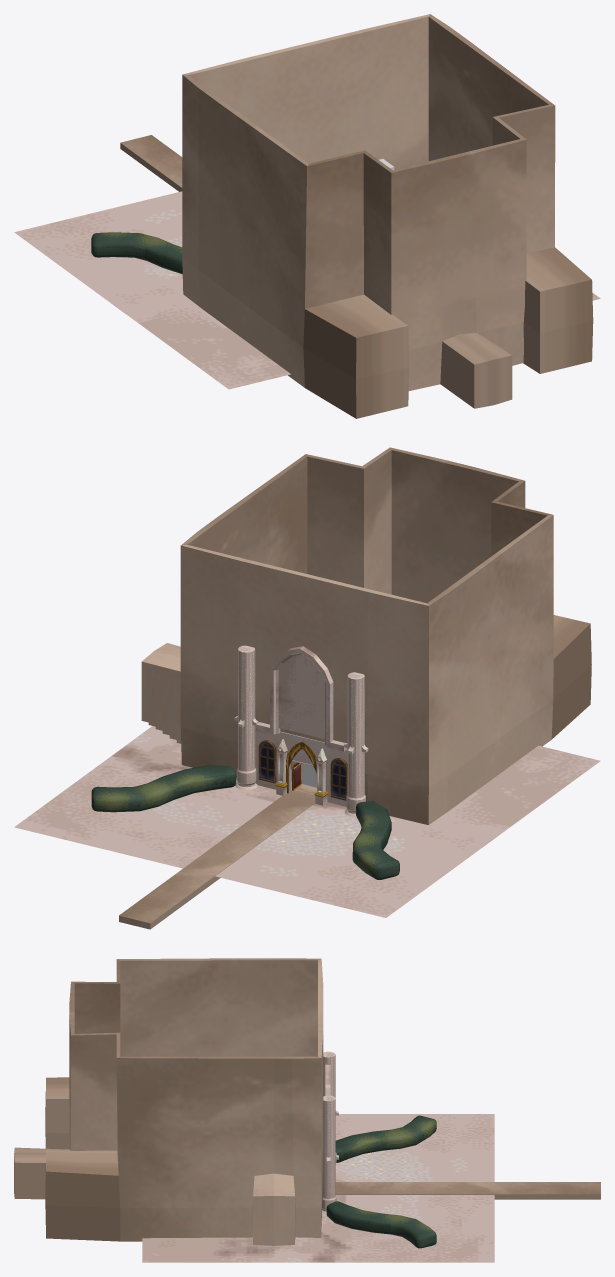
The model's file is Hotel_puertaAnimadaDoni.fbx.
3 views of the same model, one above another, from view 1: azimuth 30°, elevation 25°; view 2: azimuth 150°, elevation 25°; view 3: azimuth 270°, elevation 25° (orthographic). The views are drawn at different scales.
Parts seen in each view (by area): view 1: Plane, Plane.001, Cube.025; view 2: Plane, Plane.001, Cube.025, Cube.014, pilar.001, pilar, pared, ventana, Cube.009; view 3: Plane, Plane.001, Cube.025, pilar.001, pilar.
Part boxes in pixels (x1,y1,x2,y2): Plane: (120,14,593,418); Plane.001: (14,191,600,389); Cube.025: (91,232,182,274); Plane: (119,447,591,929); Plane.001: (14,726,600,917); Cube.025: (91,765,399,879); Cube.014: (256,646,347,751); pilar.001: (235,645,257,790); pilar: (345,672,365,816); pared: (255,726,347,806); ventana: (258,740,347,800); Cube.009: (275,739,327,805); Plane: (14,958,600,1245); Plane.001: (142,1114,494,1262); Cube.025: (326,1115,436,1248); pilar.001: (322,1095,336,1213); pilar: (323,1051,337,1168).
Size of the model in its own units: 3836 by 2278 by 6389.
